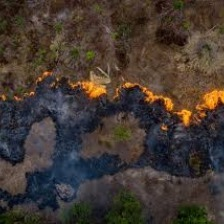incendio: (1, 65, 221, 138)
